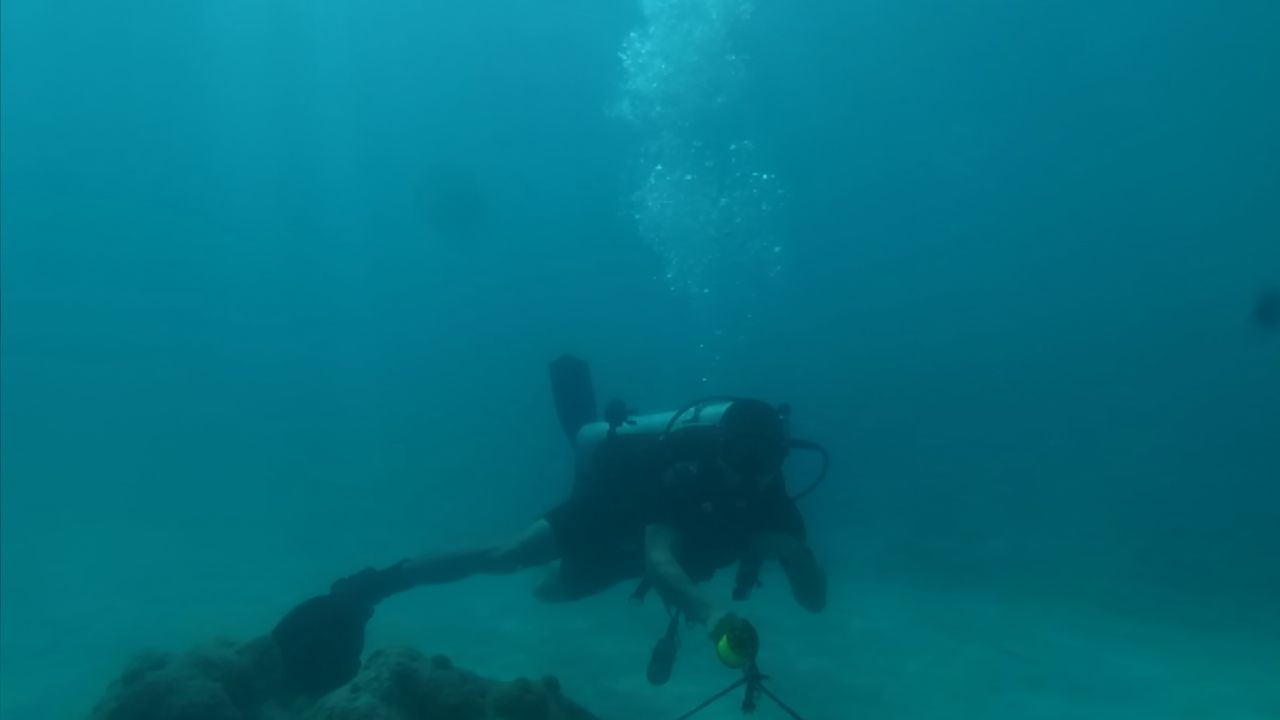Diver: (226, 306, 992, 702)
